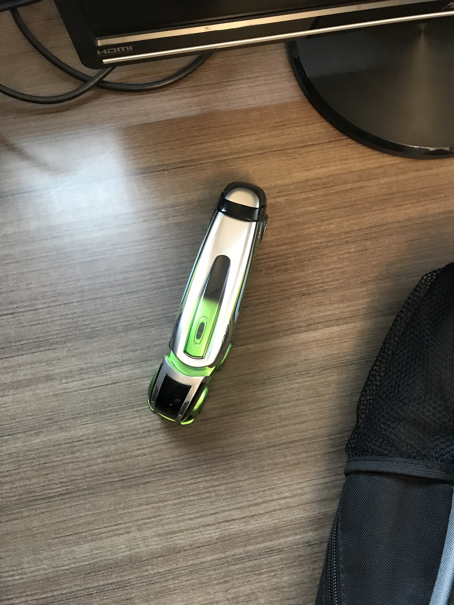Freewheel: (148, 179, 270, 428)
